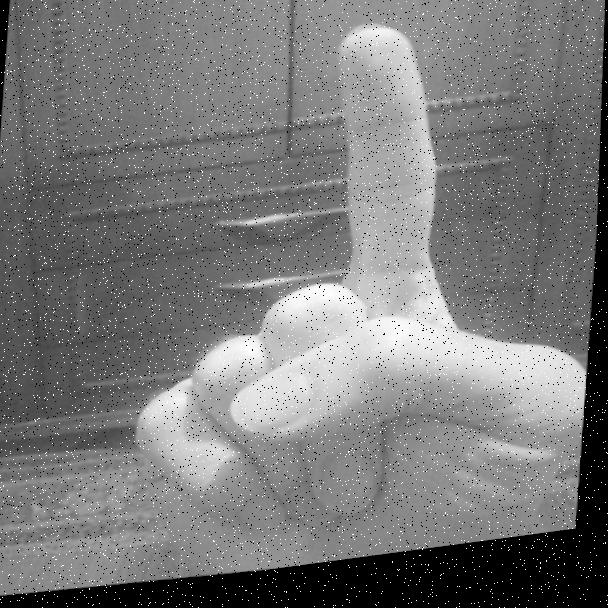one: (131, 4, 584, 588)
